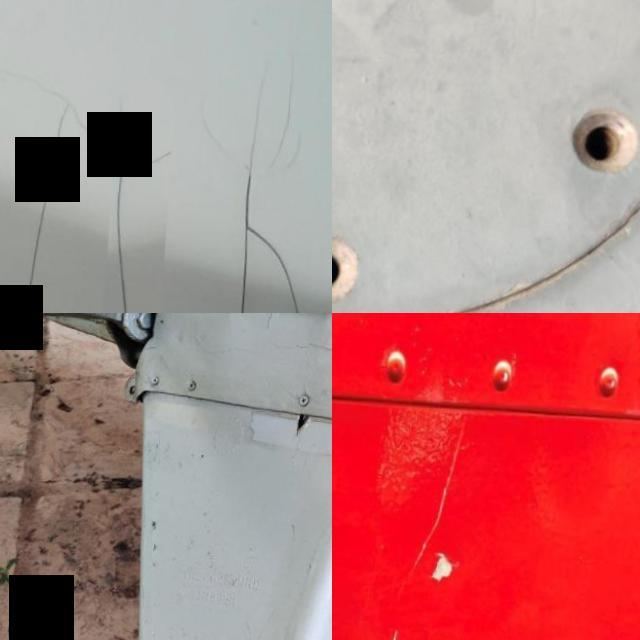Crack: (27, 93, 158, 313), (241, 155, 308, 313), (117, 91, 135, 313), (284, 398, 330, 444)
Dent: (414, 417, 468, 574), (437, 547, 460, 579)
Missing_Fastener: (538, 71, 640, 199), (332, 206, 396, 313)
